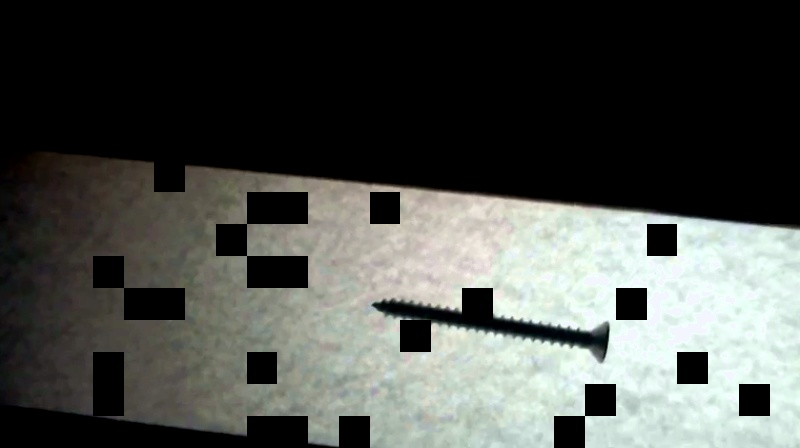S002: (367, 295, 612, 366)
